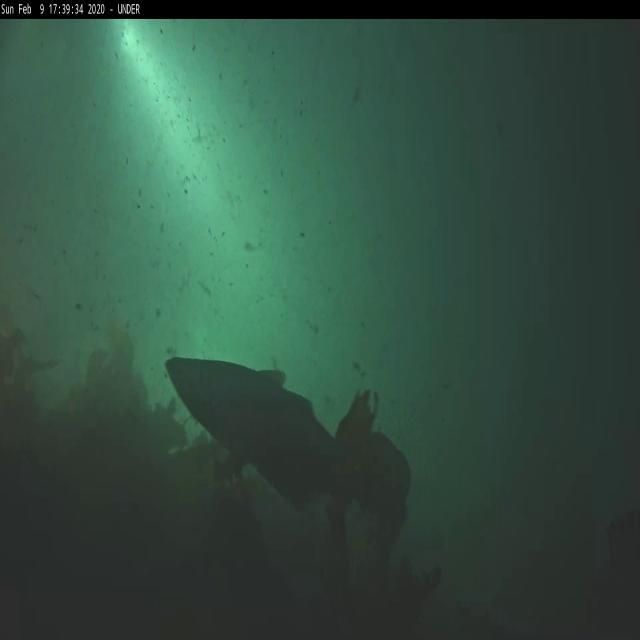fish: (163, 356, 409, 524)
